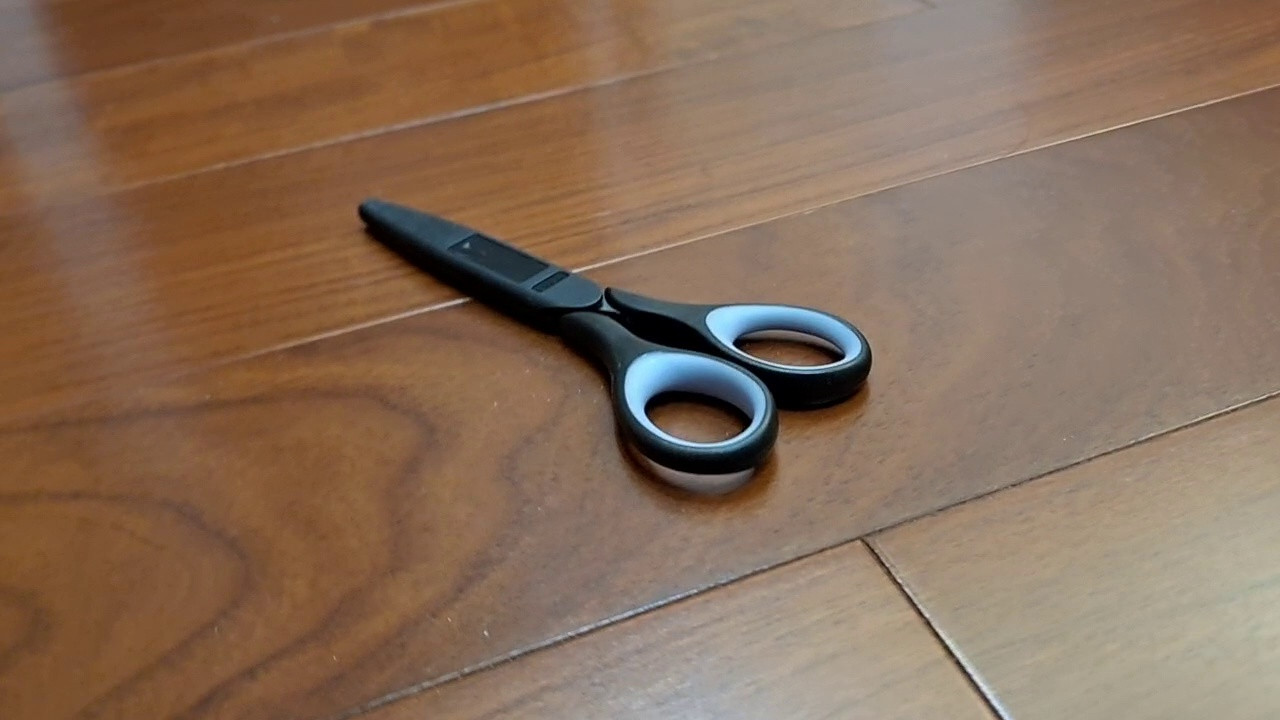scissors: (356, 196, 873, 476)
